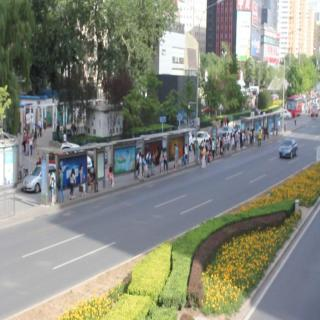BigCar: (285, 93, 303, 120)
Car: (23, 161, 59, 196), (60, 142, 94, 176), (37, 149, 70, 181), (277, 134, 300, 163), (193, 132, 209, 148), (275, 106, 292, 120)
